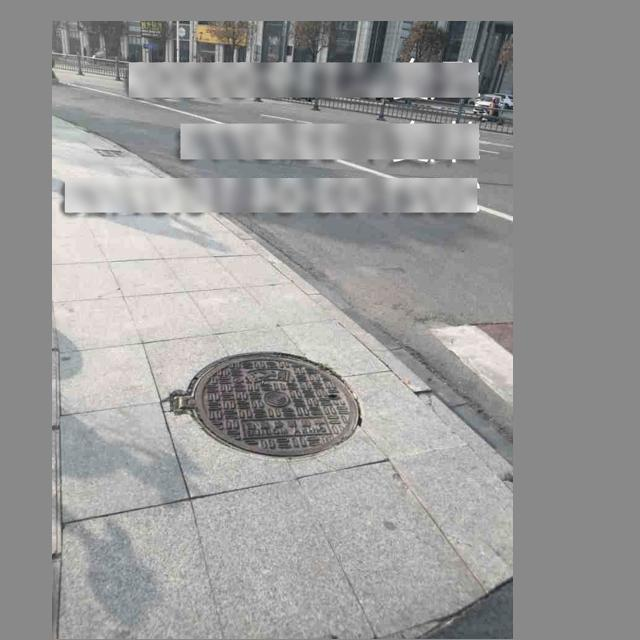good: (175, 351, 362, 456)
